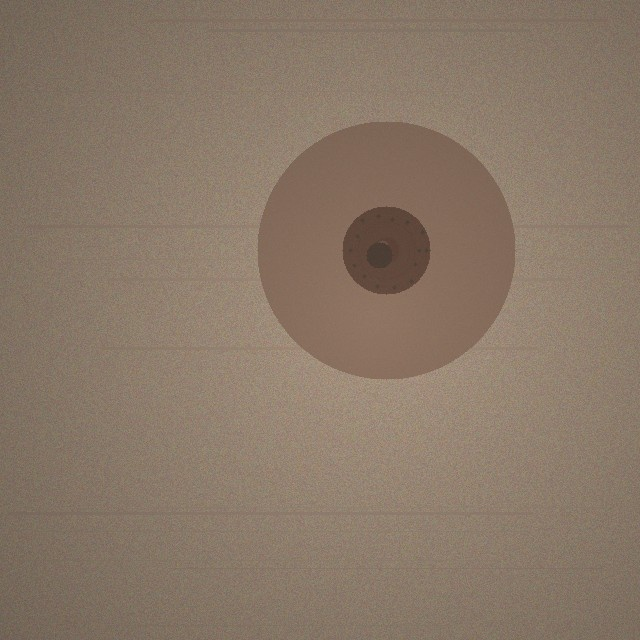cold_weld: (257, 121, 515, 379)
